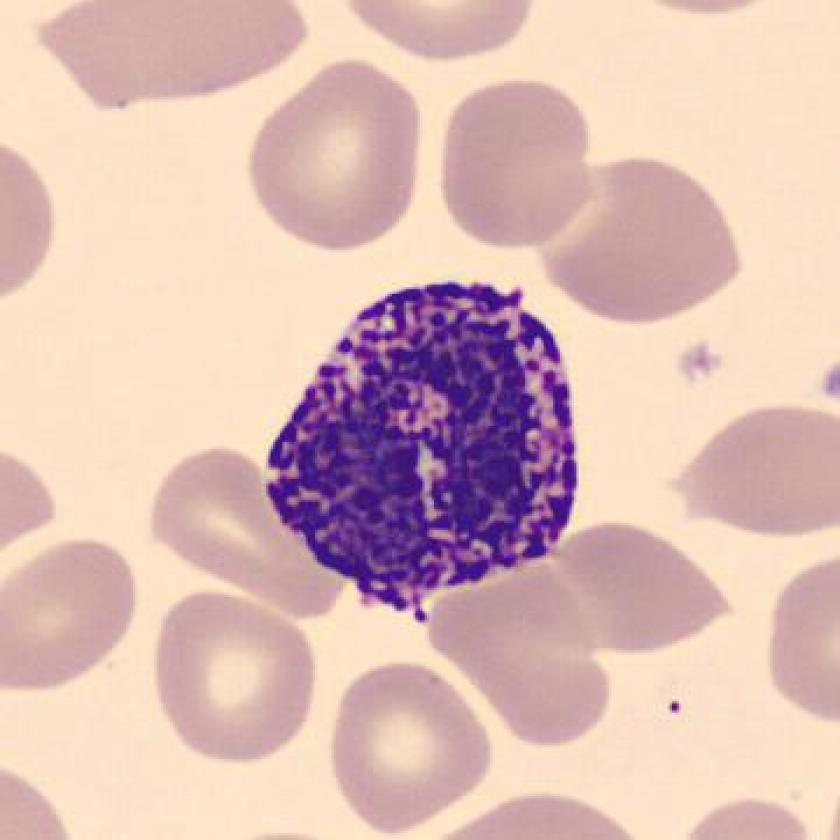basophil: (256, 267, 592, 610)
